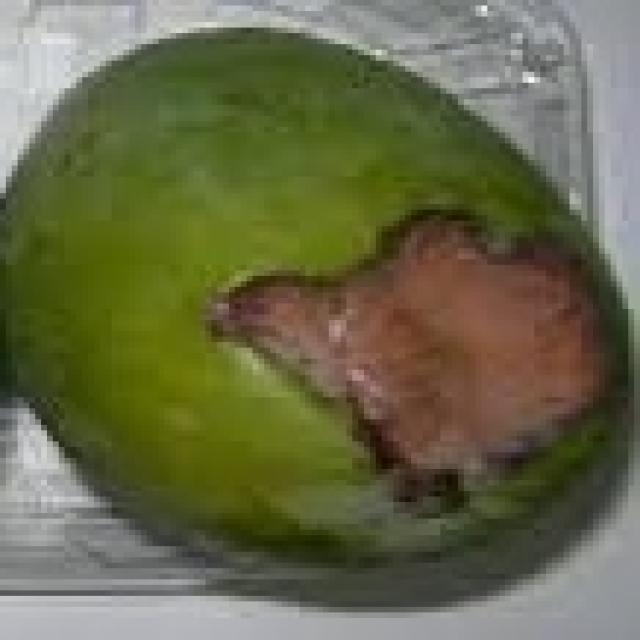Bad_Mango: (4, 29, 625, 592)
